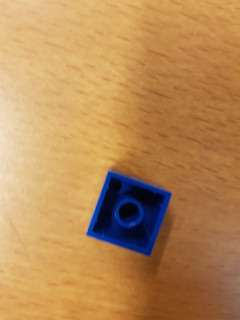2x2 blue: (84, 166, 172, 260)
